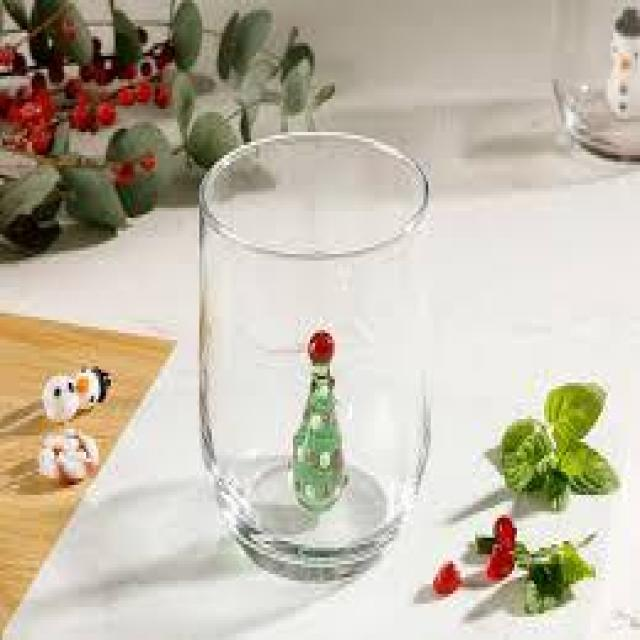non-organic waste: (197, 127, 433, 572)
